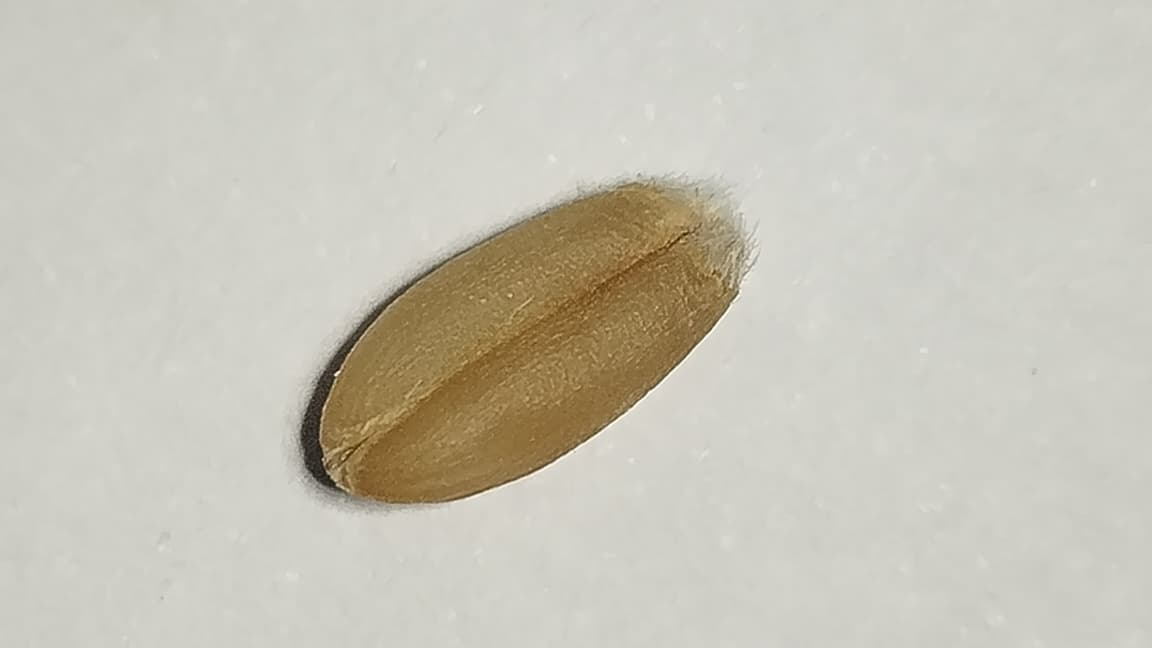healthy: (320, 182, 747, 501)
